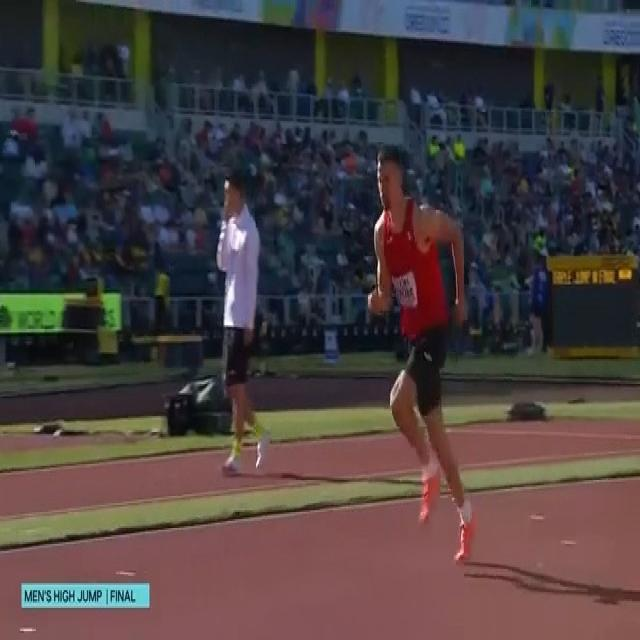run: (369, 150, 478, 572)
